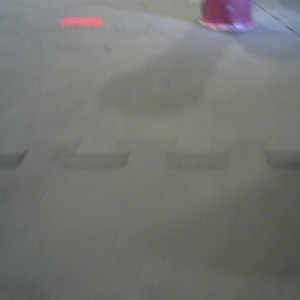right: (198, 1, 256, 30)
